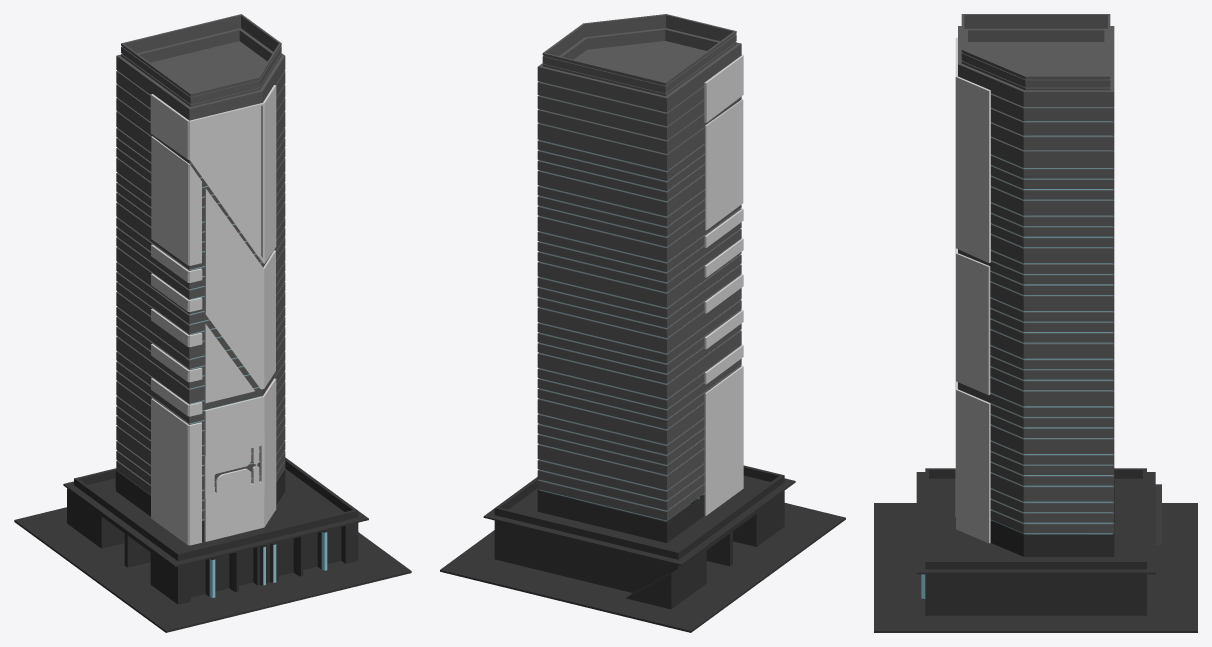
Rendered from FUT0210067.fbx.
The picture shows the model from 3 angles, left to right: view 1: azimuth 30°, elevation 25°; view 2: azimuth 150°, elevation 25°; view 3: azimuth 270°, elevation 25°; orthographic projection. The views are drawn at different scales.
Visible parts, largest first — view 1: smFUT0210067; view 2: smFUT0210067; view 3: smFUT0210067.
Boxes of the visible parts, x1,y1,x2,y2 form: smFUT0210067: (14,14,411,632); smFUT0210067: (440,14,845,632); smFUT0210067: (874,14,1197,632).
Size of the model in its own units: 2136 by 4090 by 2285.
1 material, 1 textured.
